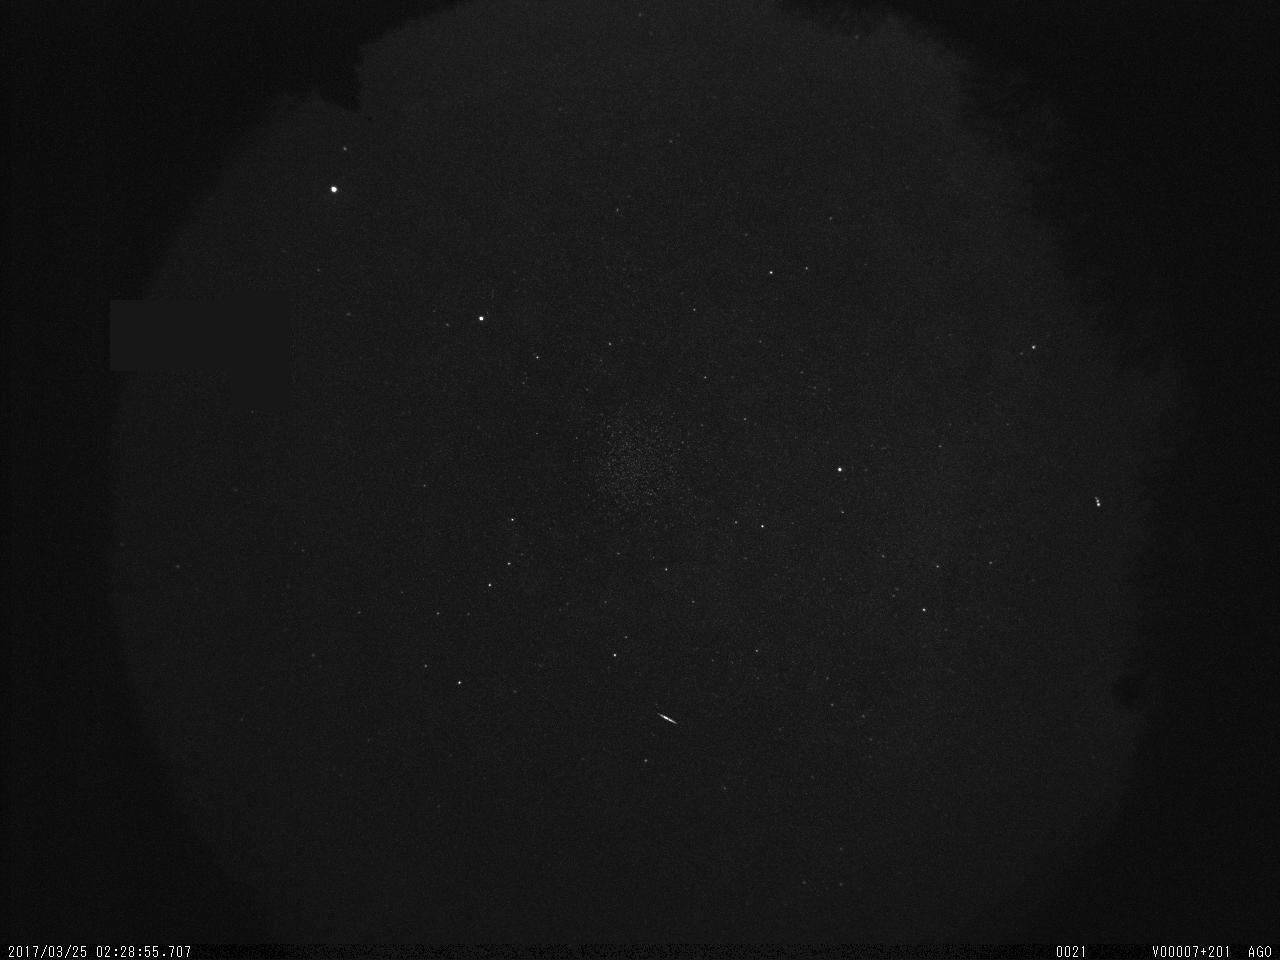Meteor: (658, 712, 679, 724)
